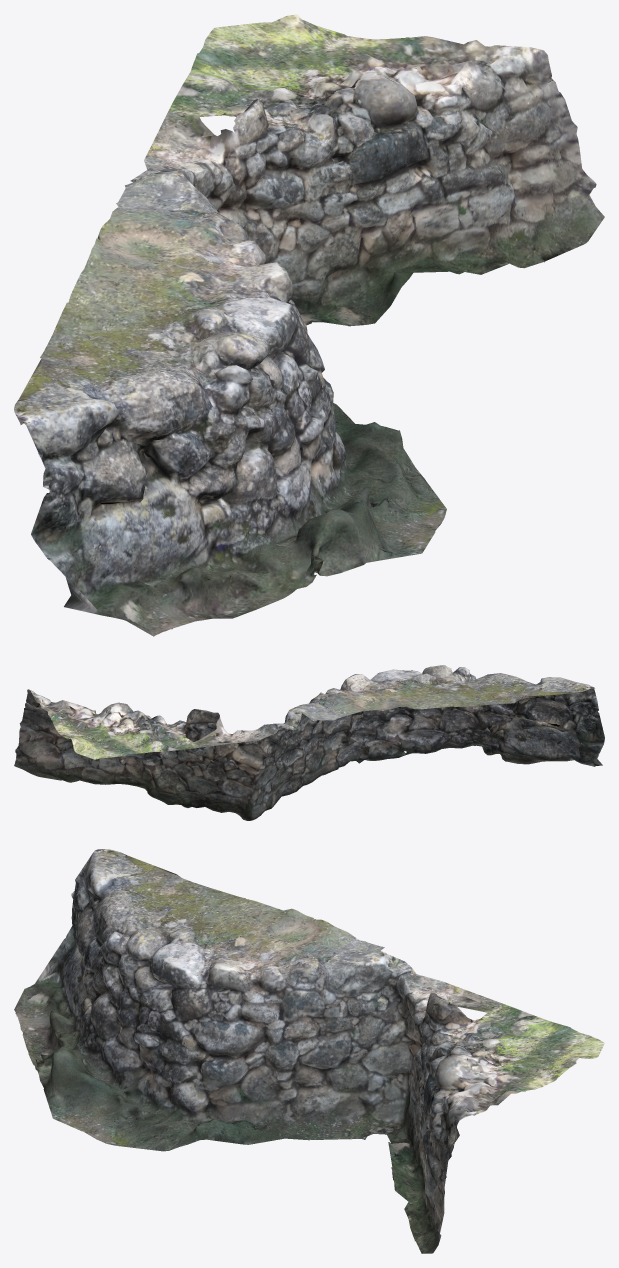
The model's file is rocks.obj.
The picture shows the model from 3 angles, top to bottom: view 1: azimuth 30°, elevation 25°; view 2: azimuth 150°, elevation 25°; view 3: azimuth 270°, elevation 25°; orthographic projection. The views are drawn at different scales.
Visible parts, largest first — view 1: Mesh_0; view 2: Mesh_0; view 3: Mesh_0.
Part boxes in pixels (box(x1,y1,x2,y2)): Mesh_0: box(14, 14, 604, 636); Mesh_0: box(14, 665, 604, 820); Mesh_0: box(14, 849, 604, 1253).
Size of the model in its own units: 27.46 by 7.31 by 24.03.
Materials: 1 (1 with a texture image).
